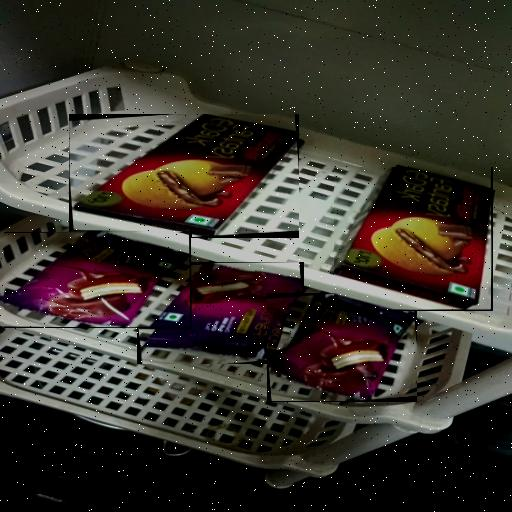Choco Fills: (69, 114, 299, 238), (334, 167, 493, 311)
Choco Pie: (4, 232, 191, 328), (137, 262, 304, 364), (267, 293, 417, 402)
